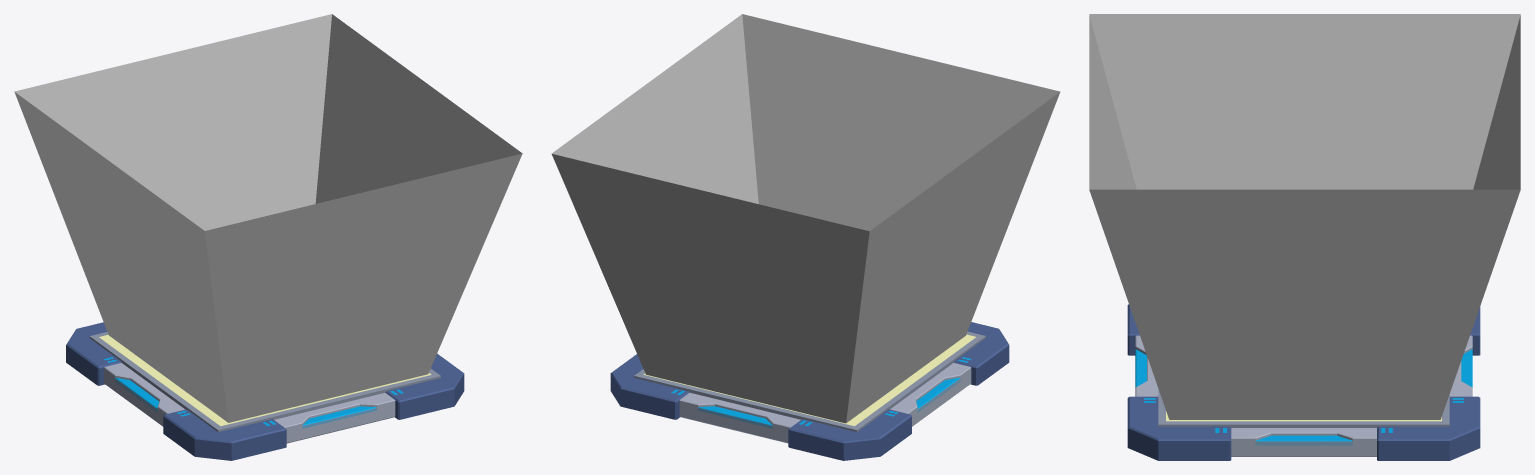
Rendered from SPW0110030.FBX.
3 renders of one model, left to right at view 1: azimuth 30°, elevation 25°; view 2: azimuth 150°, elevation 25°; view 3: azimuth 270°, elevation 25°, orthographic. The views are drawn at different scales.
Parts seen in each view (by area): view 1: smSPW0110030; view 2: smSPW0110030; view 3: smSPW0110030.
Boxes of the visible parts, box(x1,y1,x2,y2) form: smSPW0110030: box(14, 14, 522, 460); smSPW0110030: box(551, 14, 1060, 460); smSPW0110030: box(1089, 14, 1520, 460).
Bounding box in the file's own units: 223 × 170 × 231.
2 materials, 1 textured.
